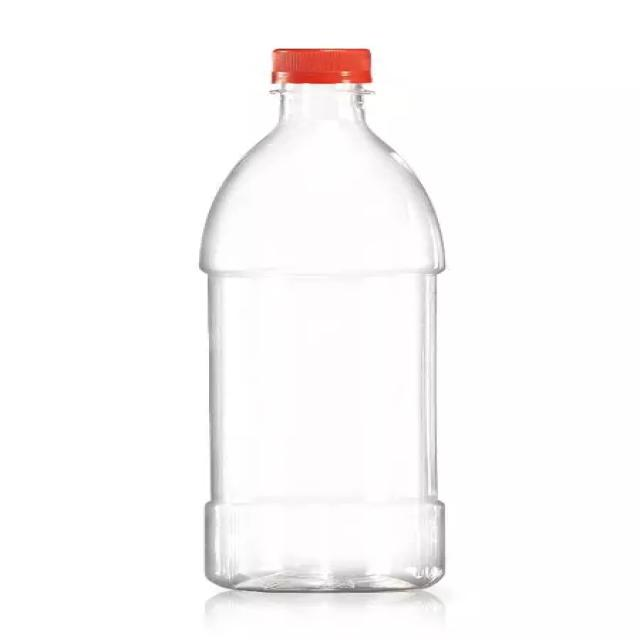bottle: (194, 42, 457, 599)
